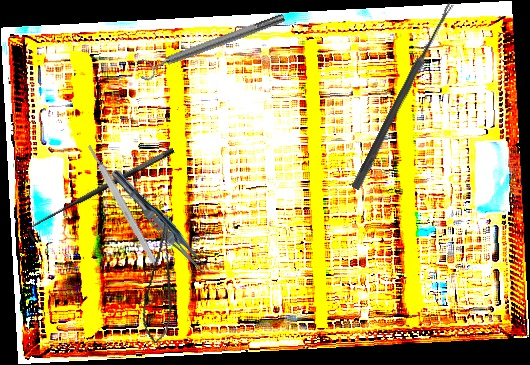Fixation Ring: (134, 7, 289, 83)
Hook Surgical: (21, 145, 182, 244)
Micro Scissor: (135, 222, 191, 346)
Scalpel Handle: (85, 143, 160, 267)
Surgical Spoon: (351, 1, 455, 191)
Tissue Forceps: (105, 165, 217, 281)
